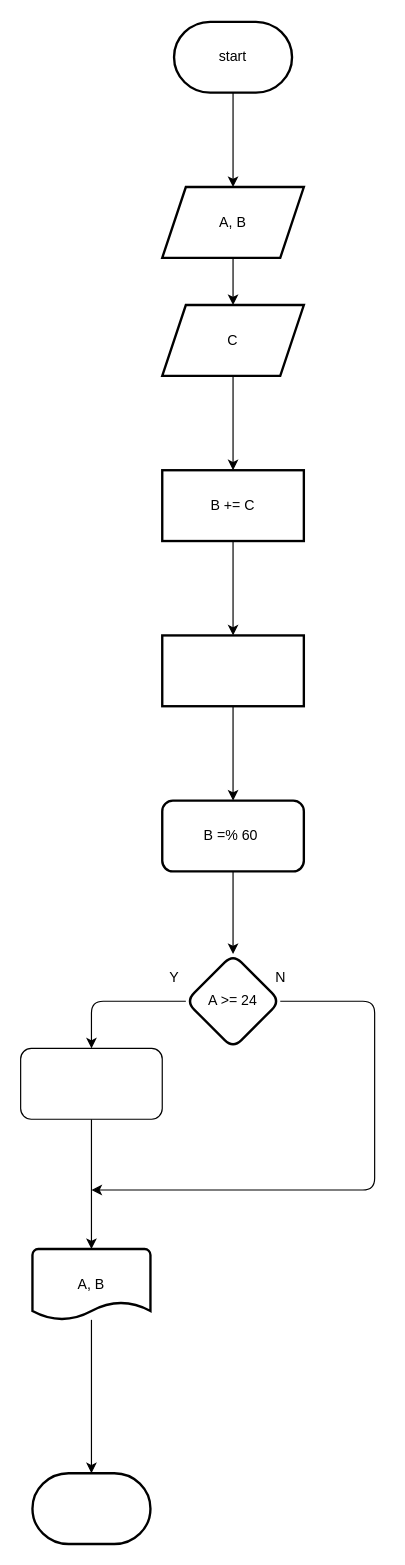
The diagram is 405 pixels wide and 1565 high, and some of its shapes have lost their labels. Here are the shapes that lost their labels. From the top down, the centre of each, then its label:
At (x=232, y=670): "A += B // 60".
At (x=90, y=1083): "A %= 24".
At (x=91, y=1508): "finish".
